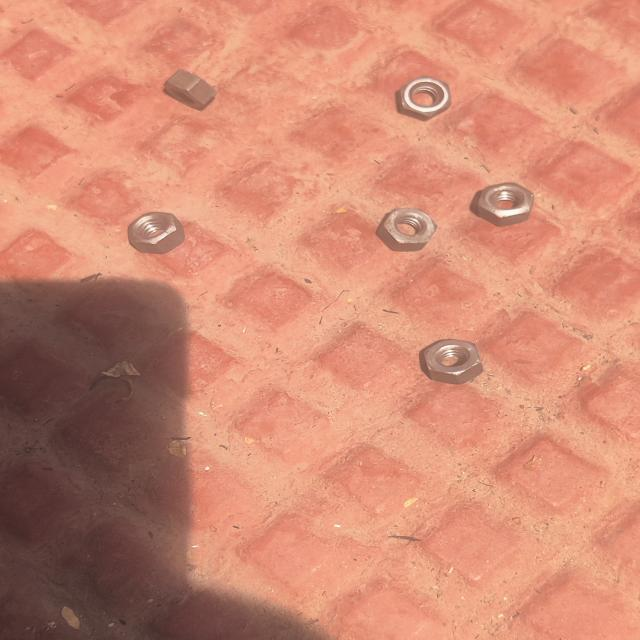disinfected nut: (373, 50, 453, 120), (470, 182, 533, 228), (420, 340, 483, 385), (377, 208, 437, 252), (127, 212, 187, 255), (397, 78, 450, 120), (163, 70, 217, 110)
